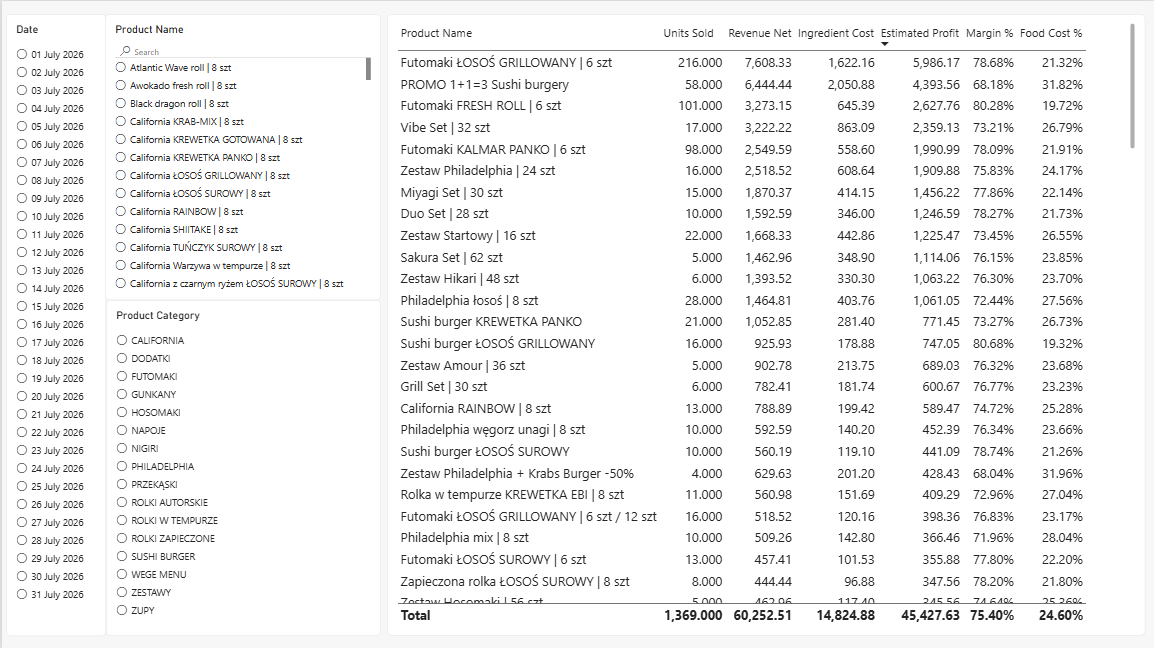

This screenshot's page, from the dashboard's own definition file:
{"tool":"powerbi","page":{"name":"Product Details","canvas":[1920,1080],"ordinal":1},"visuals":[{"type":"listSlicer","fields":{"Values":["sales_07_2026.date"]},"box":[6.7,21.7,166.7,1036.7],"z":0},{"type":"listSlicer","fields":{"Values":["sales_07_2026.product_name"]},"box":[171.7,21.7,460,476.7],"z":1},{"type":"tableEx","fields":{"Values":["sales_07_2026.product_name","Sum(sales_07_2026.total_sales)","Sum(sales_07_2026.total_revenue_net)","Sum(sales_07_2026.total_cost_est)","Sum(sales_07_2026.total_profit_est)","sales_07_2026.Margin %","sales_07_2026.Food Cost %"]},"box":[642,22,1264,1036],"z":2},{"type":"listSlicer","fields":{"Values":["sales_07_2026.product_category"]},"box":[173.3,498.3,458.3,560],"z":3}]}

Visuals, with their boxes on the page's 1920x1080 design canvas (x1, y1, x2, y2). These are canvas units, not pixel positions in the 1154x648 screenshot, which may show the page scaled, cropped or inside an application window:
listSlicer - sales_07_2026.date: region(7, 22, 173, 1058)
listSlicer - sales_07_2026.product_name: region(172, 22, 632, 498)
tableEx - sales_07_2026.product_name x Sum(sales_07_2026.total_sales): region(642, 22, 1906, 1058)
listSlicer - sales_07_2026.product_category: region(173, 498, 632, 1058)
